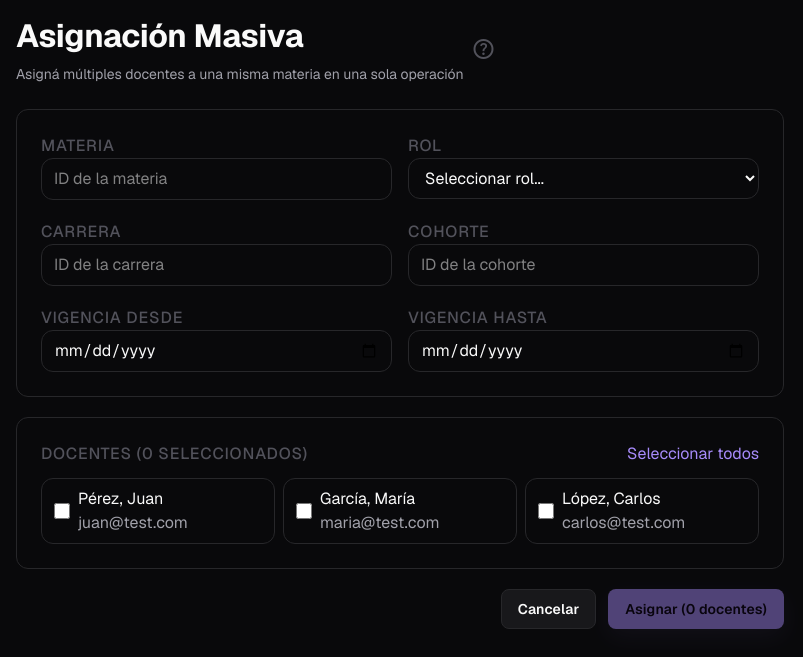
Test: AsignacionMasivaPage › allows selecting and deselecting teachers
Click the checkbox labelled "Pérez, Juan juan@test.com" at (62, 511), box left=54, top=503, right=70, bottom=519
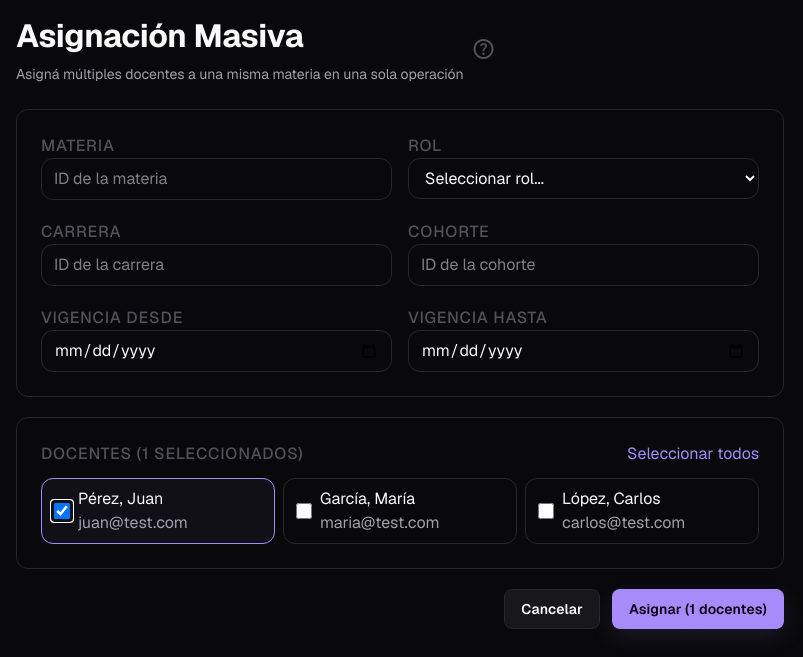
Now the text "Docentes (1 seleccionados)" is shown, box left=41, top=442, right=304, bottom=466
Click the checkbox labelled "Pérez, Juan juan@test.com" at (62, 511), box left=54, top=503, right=70, bottom=519
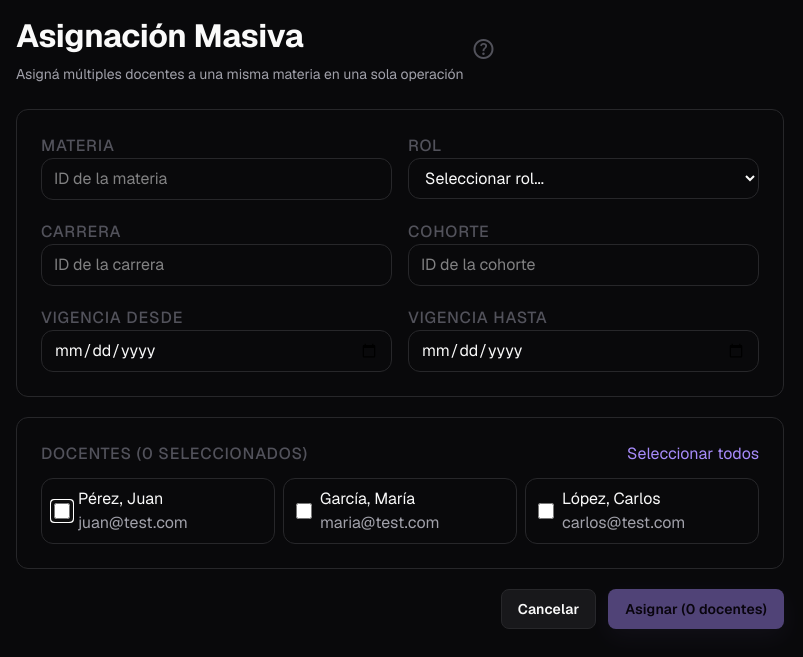
Now the text "Docentes (0 seleccionados)" is shown, box left=41, top=442, right=308, bottom=466
